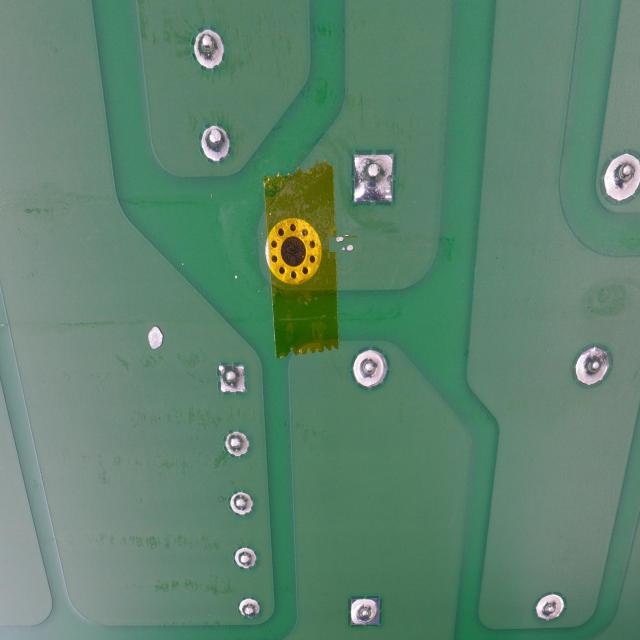spillover: (145, 322, 167, 350), (332, 233, 354, 256)
